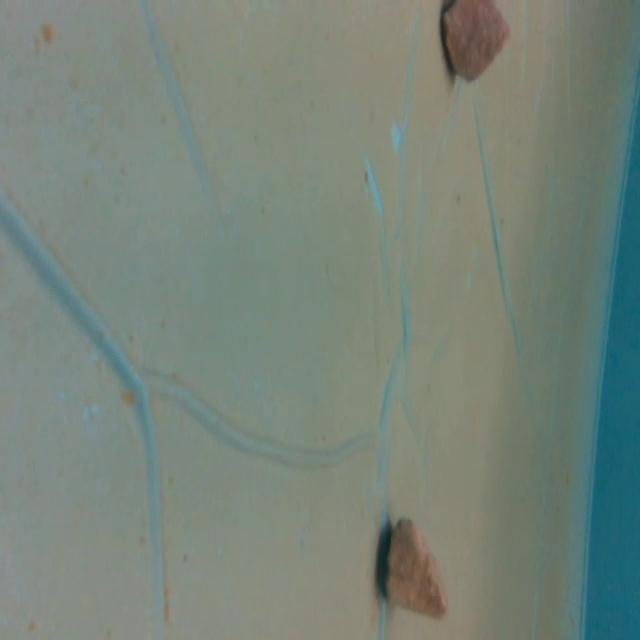rock: (373, 509, 457, 626), (437, 0, 515, 85)
